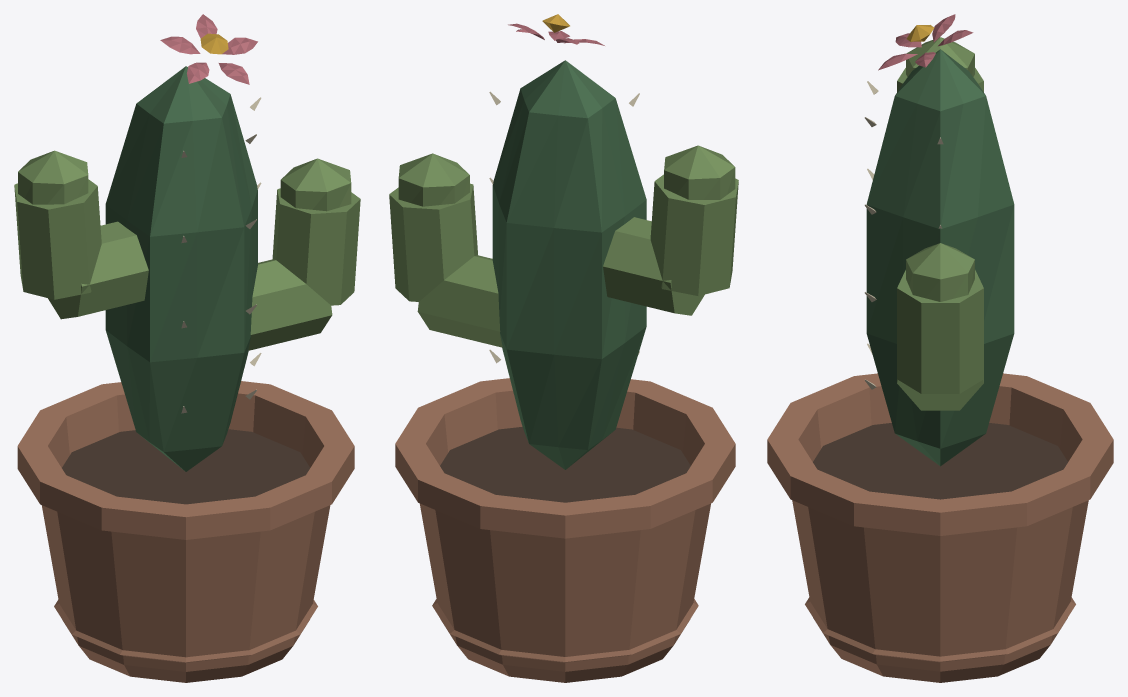
The model's file is decor_pot_cactus.glb.
3 views of the same model, side by side, from view 1: azimuth 30°, elevation 25°; view 2: azimuth 150°, elevation 25°; view 3: azimuth 270°, elevation 25° (orthographic). The views are drawn at different scales.
Parts seen in each view (by area): view 1: geometry; view 2: geometry; view 3: geometry.
Part boxes in pixels (<box>): geometry: <box>14,14,360,682</box>; geometry: <box>389,14,738,682</box>; geometry: <box>767,14,1113,682</box>.
Bounding box in the file's own units: 0.5338 × 0.9197 × 0.4664.
